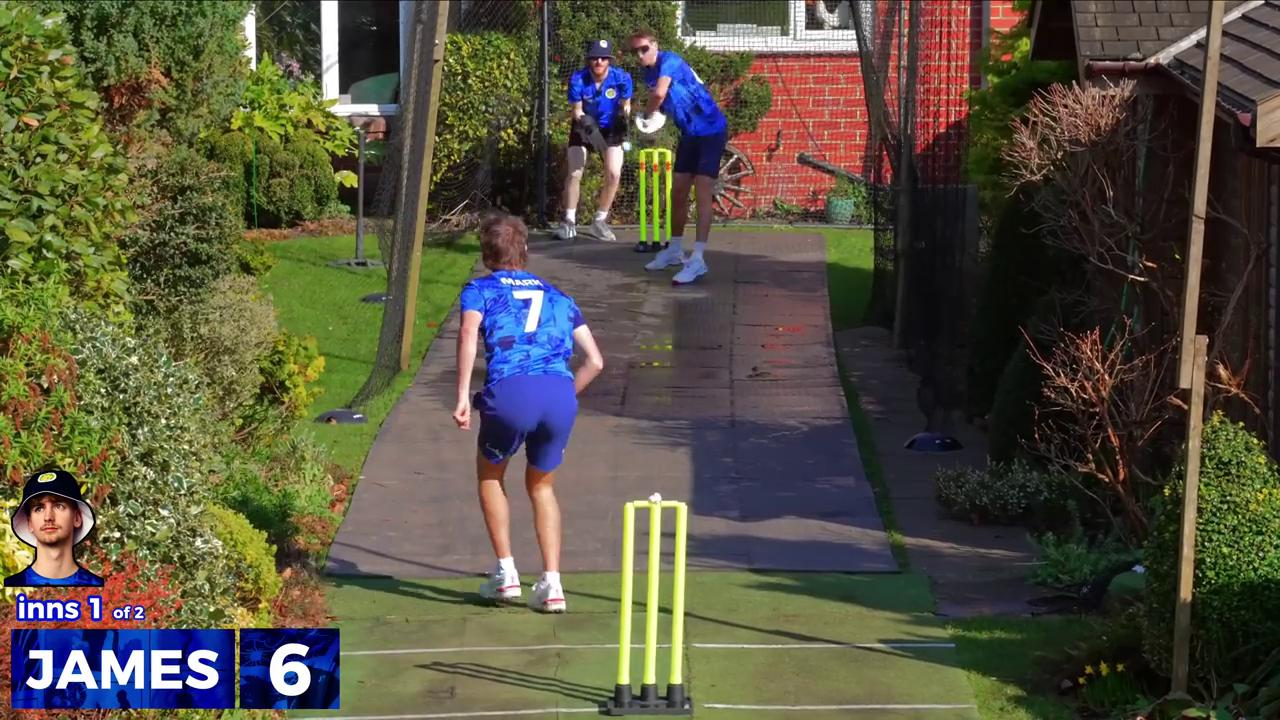ball: (619, 140, 637, 155)
